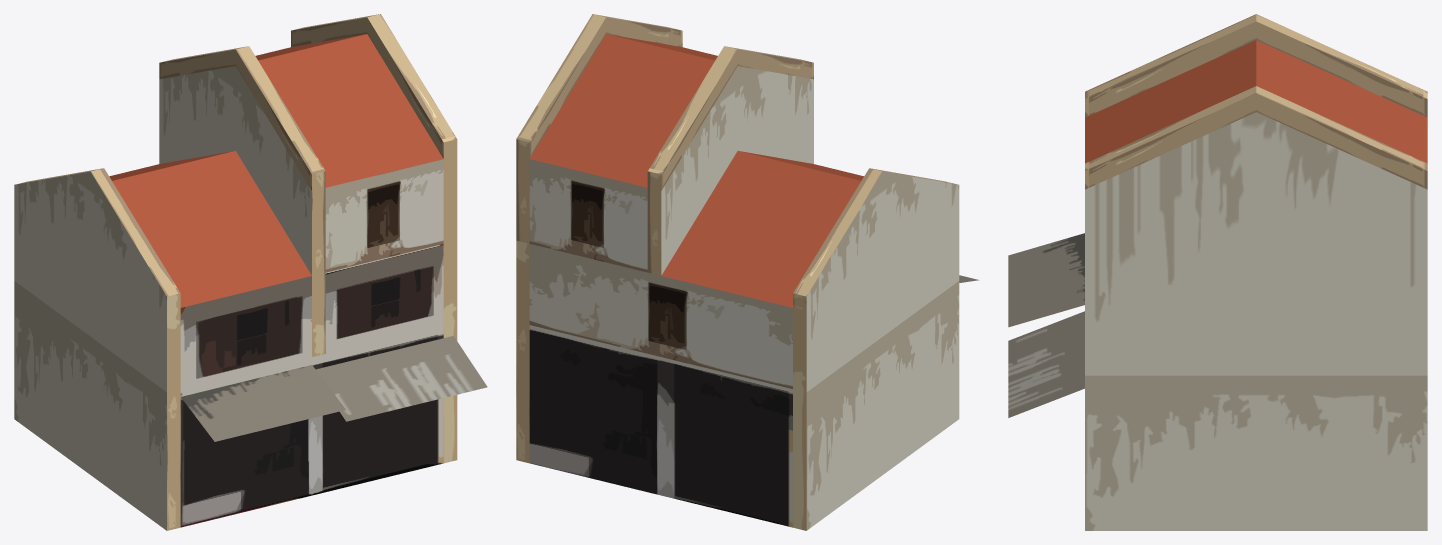
The model's file is SM_Building_Large_06.fbx.
3 renders of one model, left to right at view 1: azimuth 30°, elevation 25°; view 2: azimuth 150°, elevation 25°; view 3: azimuth 270°, elevation 25°, orthographic. The views are drawn at different scales.
Visible parts, largest first — view 1: SM_Building_Large_06_LOD0; view 2: SM_Building_Large_06_LOD0; view 3: SM_Building_Large_06_LOD0.
Part boxes in pixels (left/top/right/bottom): SM_Building_Large_06_LOD0: left=14, top=14, right=487, bottom=530; SM_Building_Large_06_LOD0: left=516, top=14, right=979, bottom=530; SM_Building_Large_06_LOD0: left=1008, top=14, right=1427, bottom=530.
Size of what is drawn, in the model's own units: 9.22 by 11.84 by 10.28.
